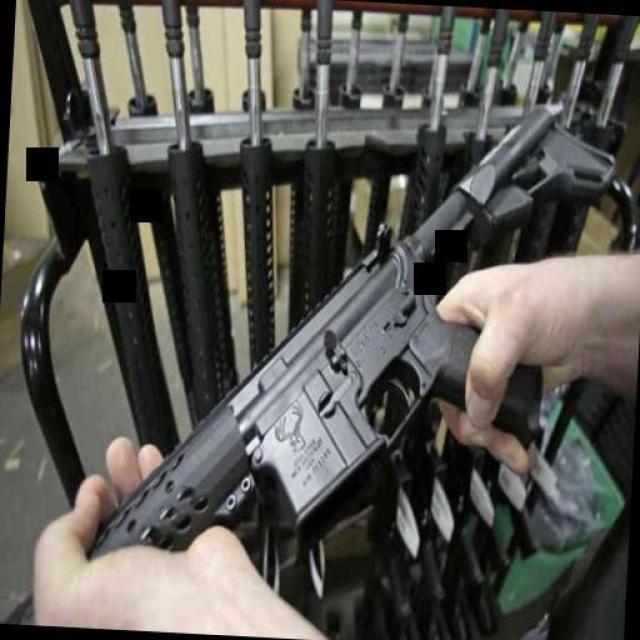gun: (215, 221, 551, 570)
